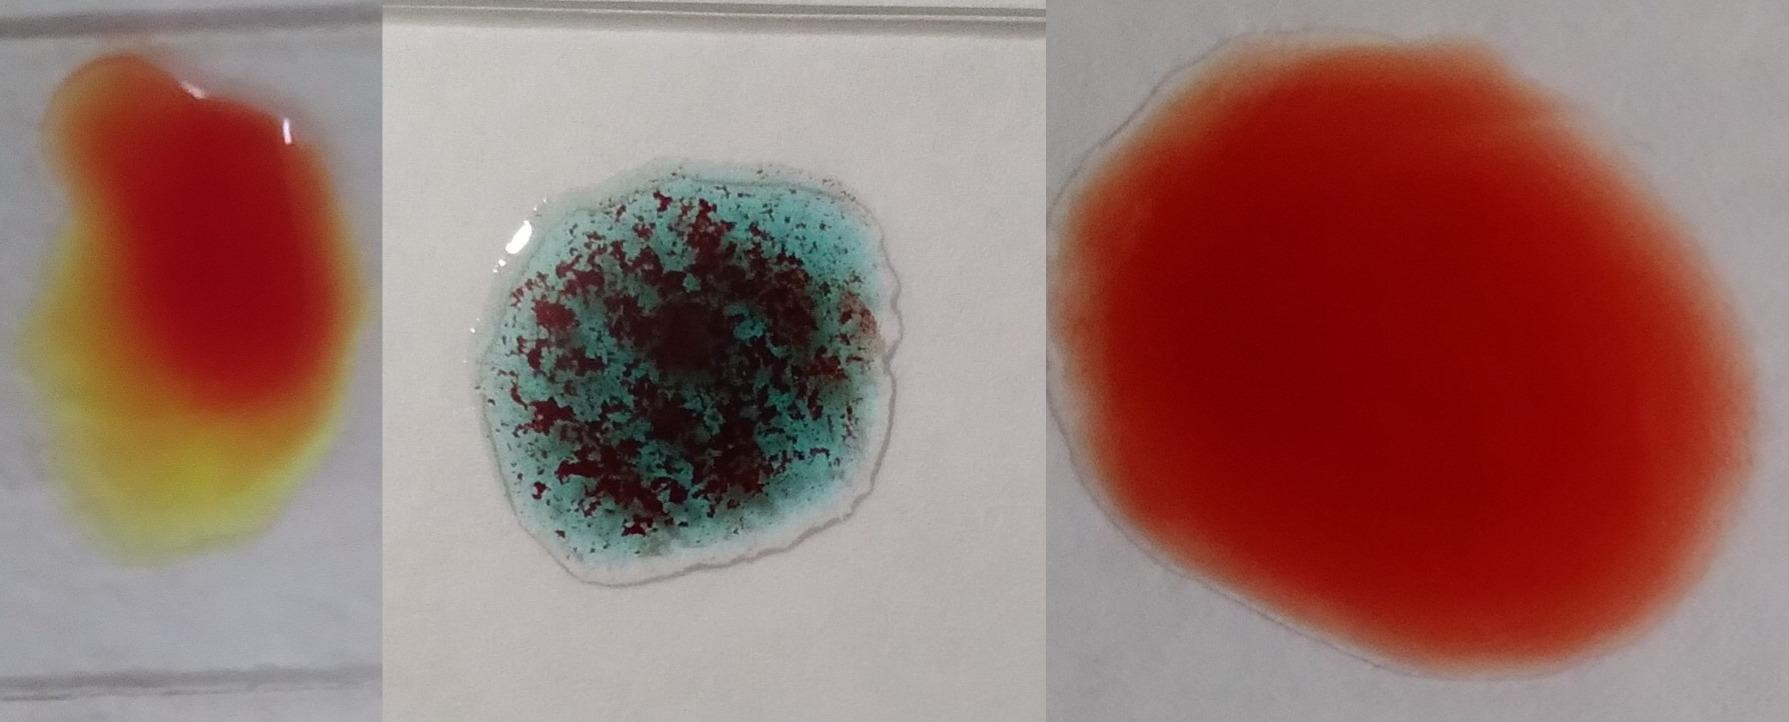A: (469, 155, 884, 583)
